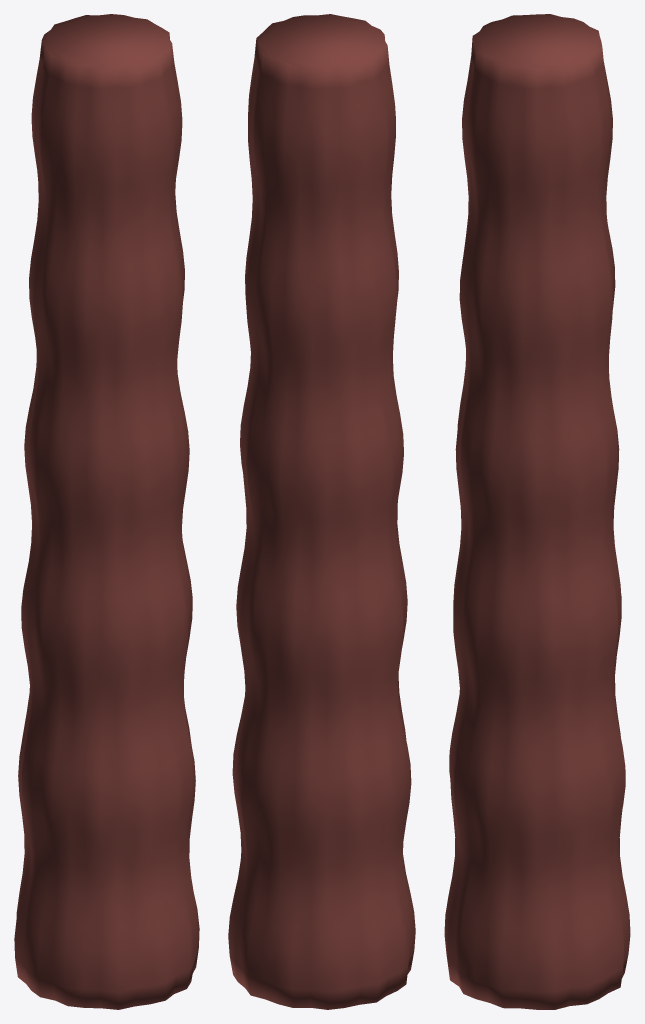
Rendered from clown-sleeve.glb.
The picture shows the model from 3 angles, left to right: view 1: azimuth 30°, elevation 25°; view 2: azimuth 150°, elevation 25°; view 3: azimuth 270°, elevation 25°; orthographic projection.
Visible parts, largest first — view 1: TailoredSleeve; view 2: TailoredSleeve; view 3: TailoredSleeve.
Boxes of the visible parts, x1,y1,x2,y2 form: TailoredSleeve: (14,14,199,1009); TailoredSleeve: (228,14,415,1009); TailoredSleeve: (444,14,630,1009).
Size of the model in its own units: 0.181 by 1 by 0.181.
